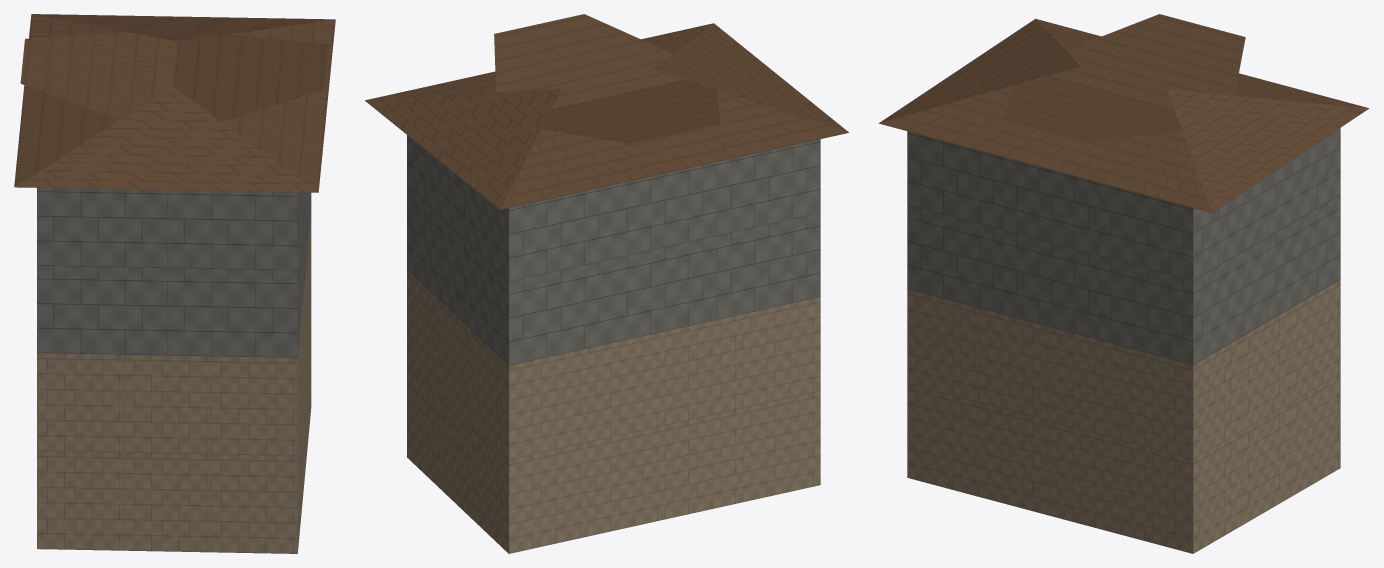
File: bld_c18_20_482.gltf
3 views of the same model, side by side, from view 1: azimuth 30°, elevation 25°; view 2: azimuth 150°, elevation 25°; view 3: azimuth 270°, elevation 25° (orthographic). The views are drawn at different scales.
Visible parts, largest first — view 1: bld_c18_20_482; view 2: bld_c18_20_482; view 3: bld_c18_20_482.
Part boxes in pixels (x1,y1,x2,y2): bld_c18_20_482: [14, 14, 335, 553]; bld_c18_20_482: [365, 14, 848, 553]; bld_c18_20_482: [878, 14, 1368, 553].
Size of the model in its own units: 10.97 by 10.4 by 11.72.
3 materials, 3 textured.
